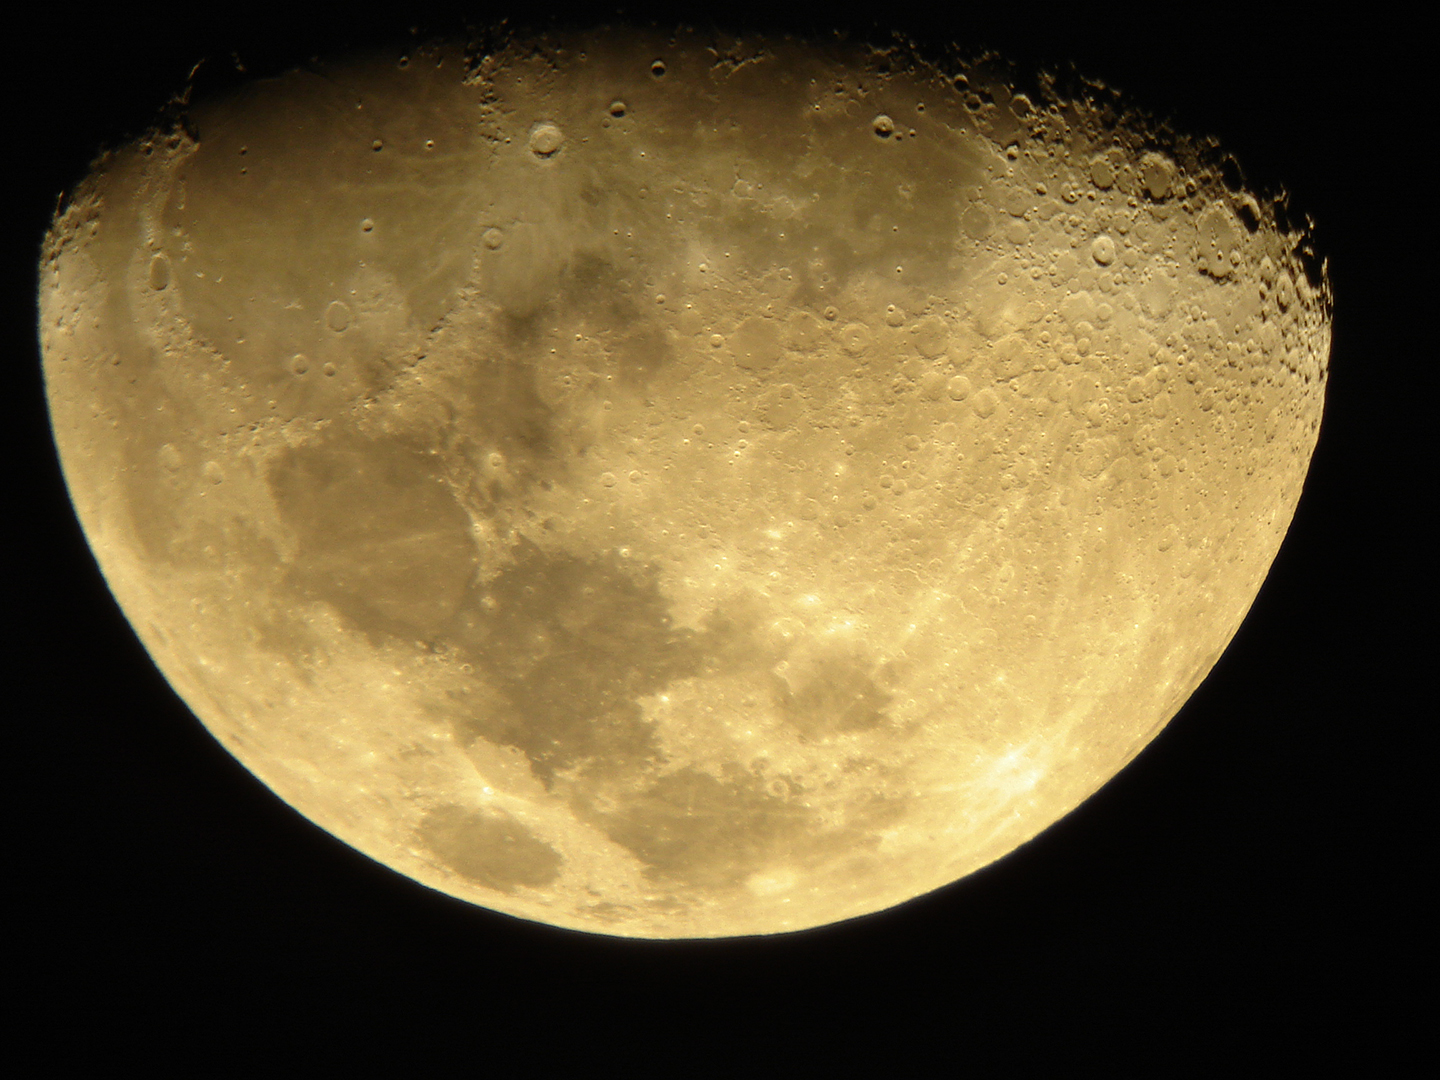crater: (627, 29, 713, 117), (1129, 130, 1198, 236), (125, 244, 210, 319), (507, 107, 584, 185), (723, 299, 790, 379), (738, 378, 818, 444), (586, 77, 652, 157), (463, 194, 520, 277), (312, 285, 382, 348), (854, 96, 898, 159), (132, 436, 194, 476), (1002, 86, 1050, 136), (192, 446, 232, 499), (753, 773, 797, 810)
